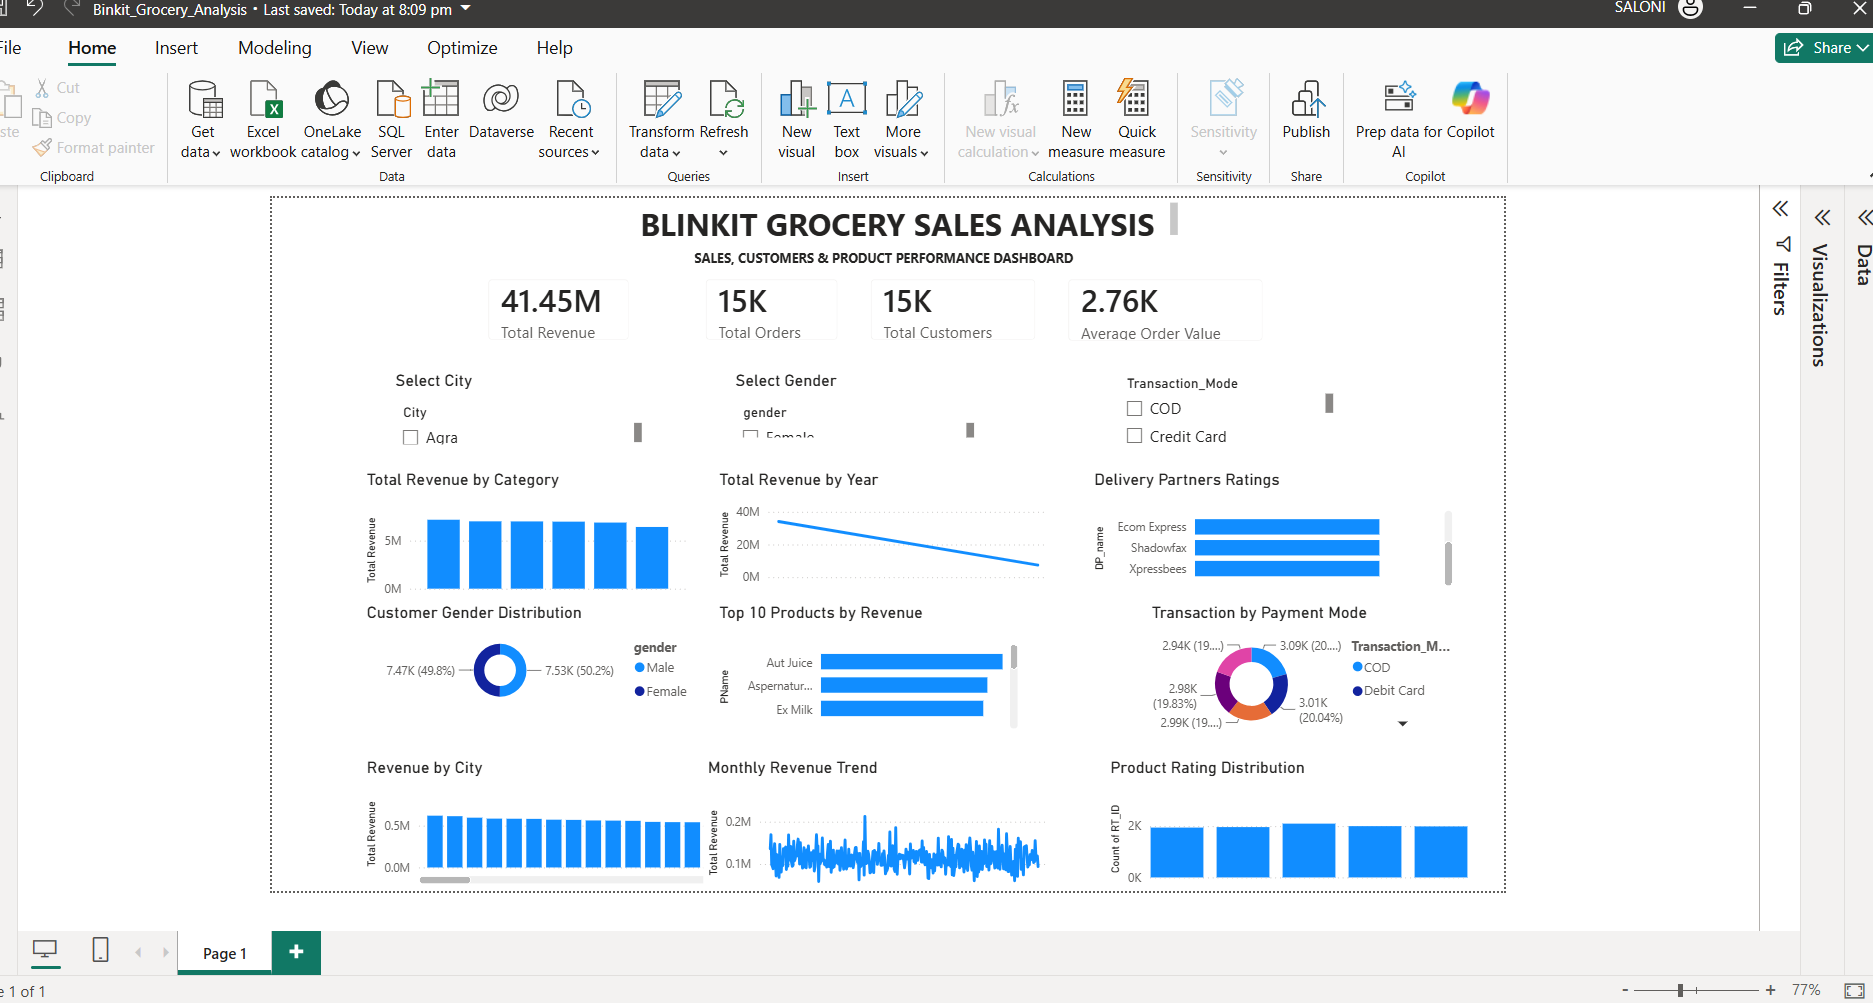

The page's visual inventory and layout, read from the dashboard file:
{"tool":"powerbi","page":{"name":"Page 1","canvas":[1280,720],"ordinal":0},"visuals":[{"type":"cardVisual","fields":{"Data":["Customers.Total Revenue"]},"box":[208.3,67.9,180.9,97.5],"z":0},{"type":"cardVisual","fields":{"Data":["Customers.Total Orders"]},"box":[433.3,67.9,171,97.6],"z":1000},{"type":"cardVisual","fields":{"Data":["Customers.Total Customers"]},"box":[604.8,67.9,206,97.6],"z":2000},{"type":"cardVisual","fields":{"Data":["Customers.Average Order Value"]},"box":[810.7,67.9,236.9,98.8],"z":3000},{"type":"clusteredColumnChart","fields":{"Category":["Products.Category"],"Y":["Customers.Total Revenue"]},"box":[94,282.1,341.7,138.1],"z":4000},{"type":"lineChart","fields":{"Category":["Orders.Order_Date.Variation.Date Hierarchy.Year","Orders.Order_Date.Variation.Date Hierarchy.Quarter","Orders.Order_Date.Variation.Date Hierarchy.Month","Orders.Order_Date.Variation.Date Hierarchy.Day"],"Y":["Customers.Total Revenue"]},"box":[459.5,282.1,351.2,126.2],"z":5000},{"type":"donutChart","title":" Transaction by Payment Mode","fields":{"Category":["Transactions.Transaction_Mode"],"Y":["CountNonNull(Transactions.Tr_ID)"]},"box":[909.5,420.2,321.4,138.1],"z":6000},{"type":"donutChart","title":"Customer Gender Distribution","fields":{"Category":["Customers.gender"],"Y":["CountNonNull(Customers.C_ID)"]},"box":[94,420.2,352.4,109.5],"z":7000},{"type":"clusteredBarChart","title":"Top 10 Products by Revenue","fields":{"Category":["Products.PName"],"Y":["Customers.Total Revenue"]},"box":[459.5,420.2,320.2,135.7],"z":8000},{"type":"clusteredBarChart","title":"Delivery Partners Ratings","fields":{"Category":["Delivery.DP_name"],"Y":["Sum(Ratings.Prod_Rating)"]},"box":[848.8,282.1,382.1,126.2],"z":9000},{"type":"clusteredColumnChart","title":"Revenue by City","fields":{"Category":["Customers.City"],"Y":["Customers.Total Revenue"]},"box":[94,582.1,385.7,135.7],"z":10000},{"type":"lineChart","title":"Monthly Revenue Trend","fields":{"Category":["Orders.Order_Date.Variation.Date Hierarchy.Year","Orders.Order_Date.Variation.Date Hierarchy.Quarter","Orders.Order_Date.Variation.Date Hierarchy.Month","Orders.Order_Date.Variation.Date Hierarchy.Day"],"Y":["Customers.Total Revenue"]},"box":[447.6,582.1,363.1,138.1],"z":11000},{"type":"clusteredColumnChart","title":" Product Rating Distribution","fields":{"Category":["Ratings.Prod_Rating"],"Y":["CountNonNull(Ratings.RT_ID)"]},"box":[866.7,582.1,381,138.1],"z":12000},{"type":"slicer","title":"Select City","fields":{"Values":["Customers.City"]},"box":[123.8,179.8,265.5,82.1],"z":13000},{"type":"slicer","title":"Select Gender","fields":{"Values":["Customers.gender"]},"box":[476.2,179.8,257.7,75],"z":14000},{"type":"slicer","fields":{"Values":["Transactions.Transaction_Mode"]},"box":[875,179.8,232.4,82.5],"z":15000},{"type":"textbox","box":[377.4,0,567.9,47.6],"z":17000},{"type":"textbox","box":[433.3,47.6,404.8,33.3],"z":18000}]}

Visuals, with their boxes on the page's 1280x720 design canvas (x1, y1, x2, y2). These are canvas units, not pixel positions in the 1873x1003 screenshot, which may show the page scaled, cropped or inside an application window:
cardVisual - Customers.Total Revenue: [x1=208, y1=68, x2=389, y2=165]
cardVisual - Customers.Total Orders: [x1=433, y1=68, x2=604, y2=166]
cardVisual - Customers.Total Customers: [x1=605, y1=68, x2=811, y2=166]
cardVisual - Customers.Average Order Value: [x1=811, y1=68, x2=1048, y2=167]
clusteredColumnChart - Products.Category x Customers.Total Revenue: [x1=94, y1=282, x2=436, y2=420]
lineChart - Orders.Order_Date.Variation.Date Hierarchy.Year x Orders.Order_Date.Variation.Date Hierarchy.Quarter: [x1=460, y1=282, x2=811, y2=408]
" Transaction by Payment Mode" donutChart: [x1=910, y1=420, x2=1231, y2=558]
"Customer Gender Distribution" donutChart: [x1=94, y1=420, x2=446, y2=530]
"Top 10 Products by Revenue" clusteredBarChart: [x1=460, y1=420, x2=780, y2=556]
"Delivery Partners Ratings" clusteredBarChart: [x1=849, y1=282, x2=1231, y2=408]
"Revenue by City" clusteredColumnChart: [x1=94, y1=582, x2=480, y2=718]
"Monthly Revenue Trend" lineChart: [x1=448, y1=582, x2=811, y2=720]
" Product Rating Distribution" clusteredColumnChart: [x1=867, y1=582, x2=1248, y2=720]
"Select City" slicer: [x1=124, y1=180, x2=389, y2=262]
"Select Gender" slicer: [x1=476, y1=180, x2=734, y2=255]
slicer - Transactions.Transaction_Mode: [x1=875, y1=180, x2=1107, y2=262]
textbox: [x1=377, y1=0, x2=945, y2=48]
textbox: [x1=433, y1=48, x2=838, y2=81]
